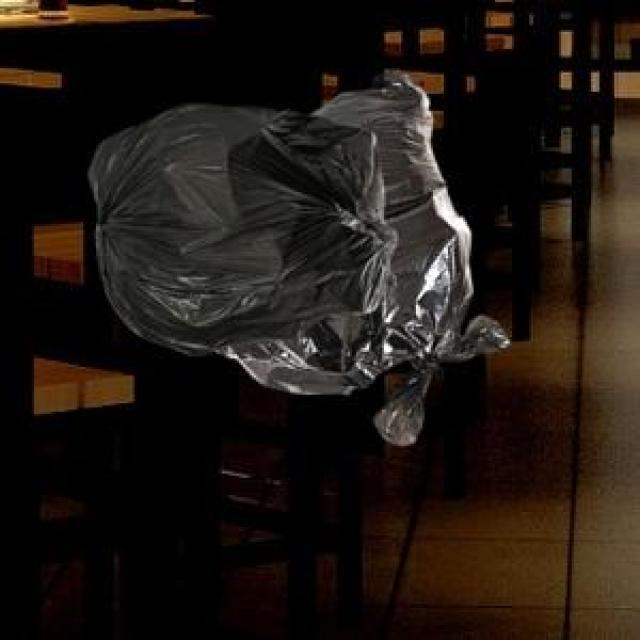Trashbag: (80, 99, 370, 357), (324, 71, 512, 388)
